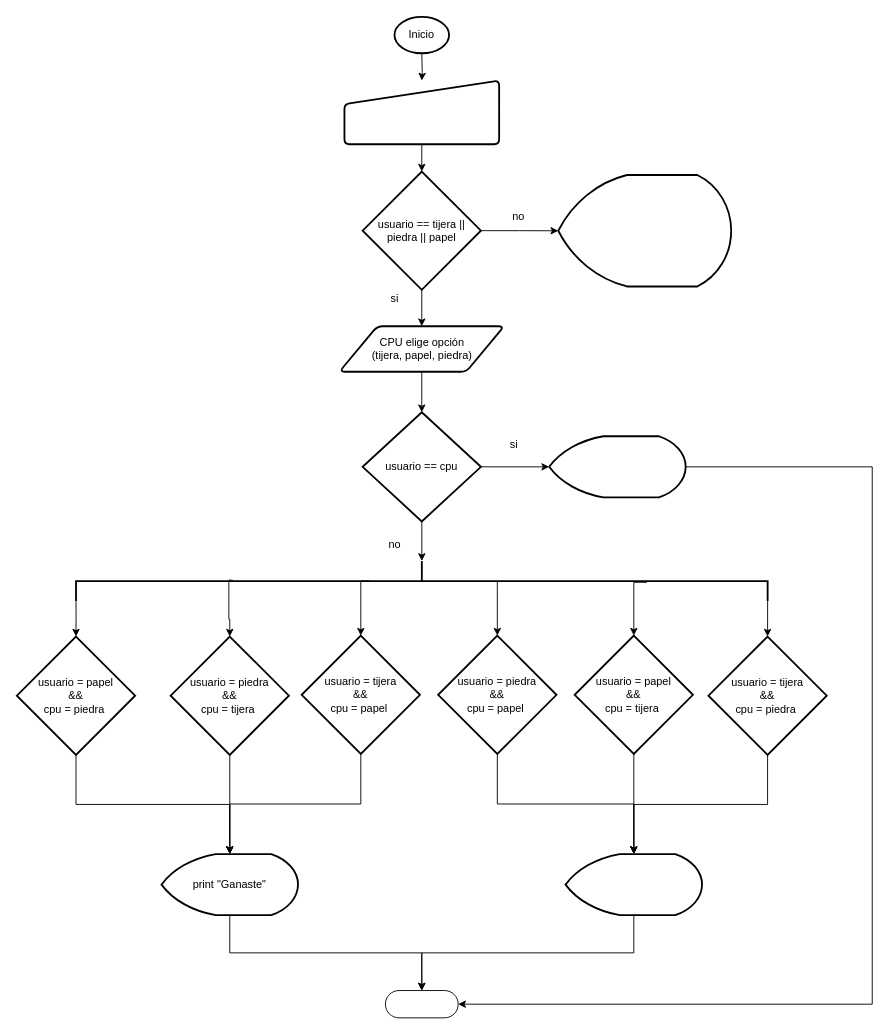
This 895x1034 diagram has some shape labels left out. Each missing label, with the box of its shape:
Fin: (384, 990, 458, 1018)
print "Argumento inválido. Debe ser piedra, papel o tijera": (557, 174, 732, 287)
print "Empataste": (548, 435, 686, 498)
print "Perdiste": (564, 853, 703, 916)
Usuario ingresa opción (tijera, papel o piedra): (343, 79, 500, 145)
